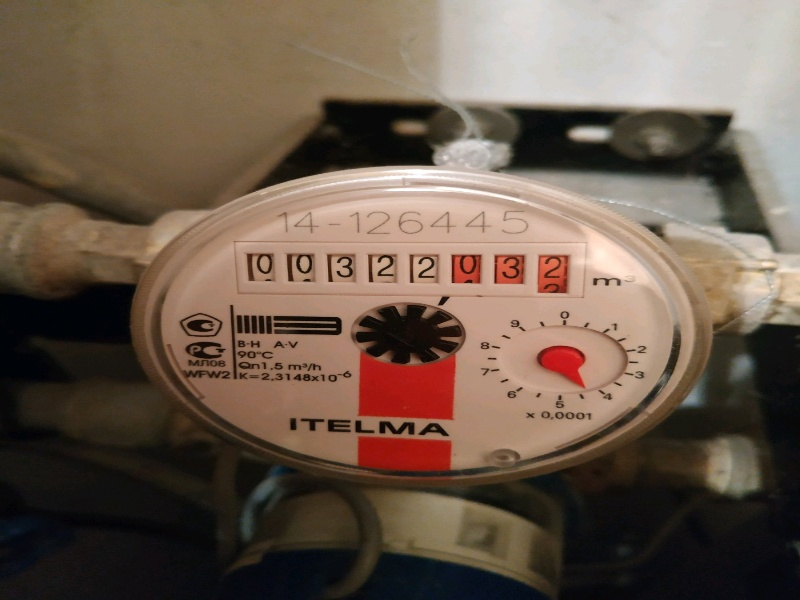meter: (239, 240, 573, 294)
